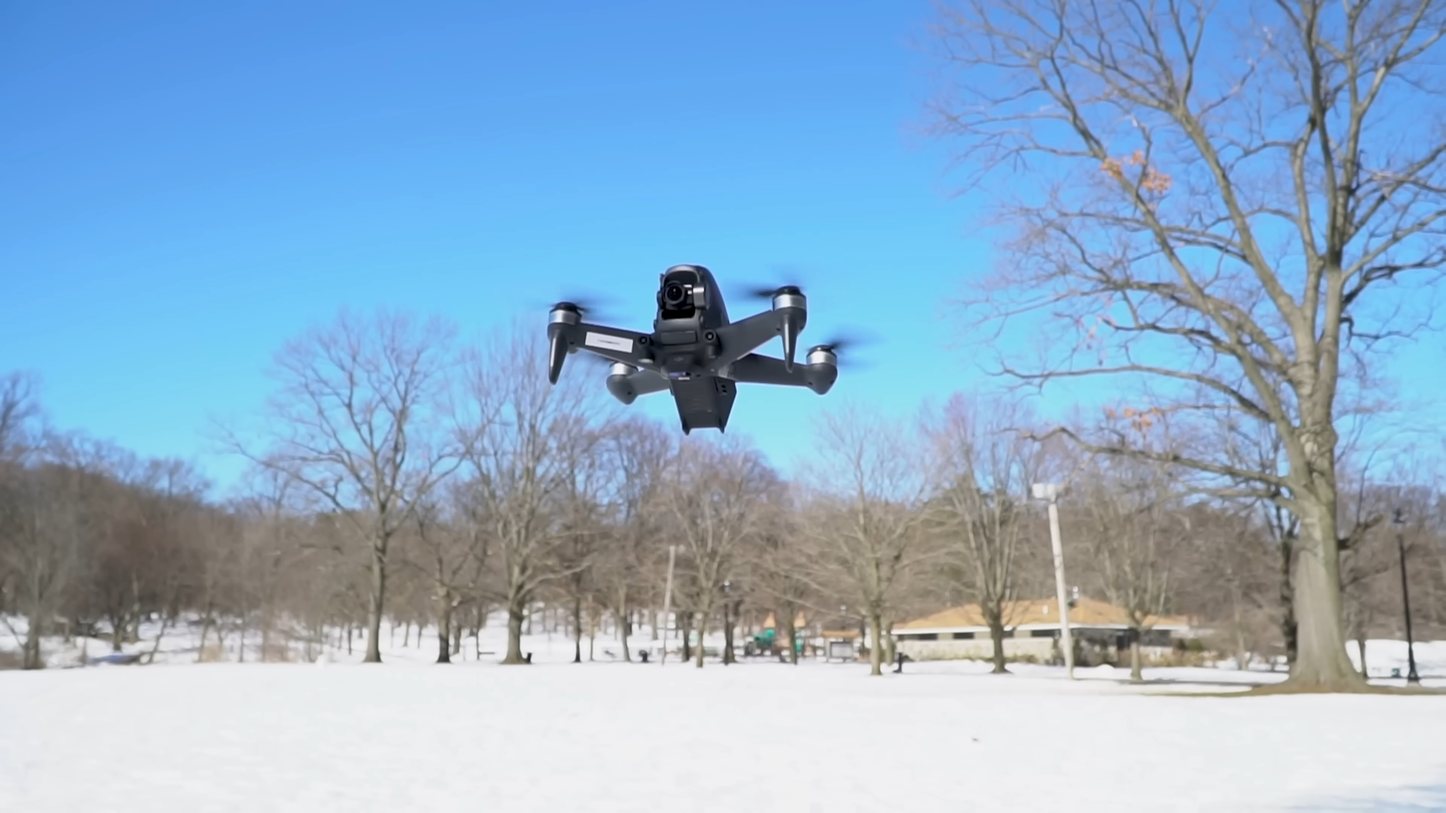drone_other: (537, 253, 850, 441)
